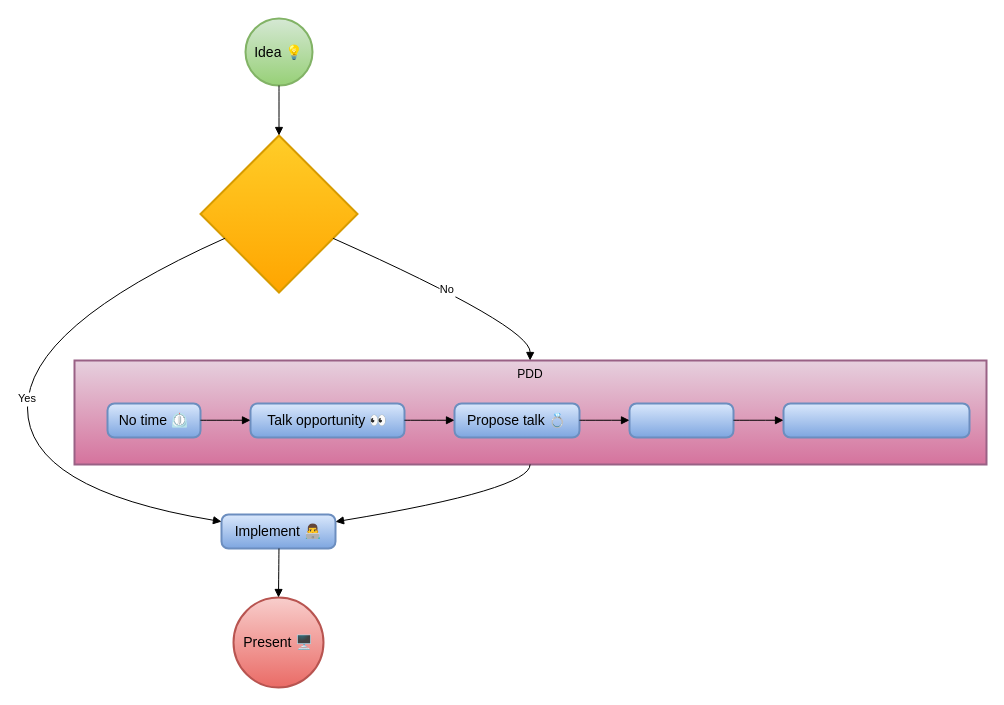
The diagram is 1004 pixels wide and 705 high, and some of its shapes have lost their labels. Each missing label, with the box of its shape:
Accepted 🎉: (628, 402, 734, 438)
Better implement it! 🤦‍♂️: (782, 402, 970, 438)
Ideal world? 🌏: (199, 134, 358, 293)
